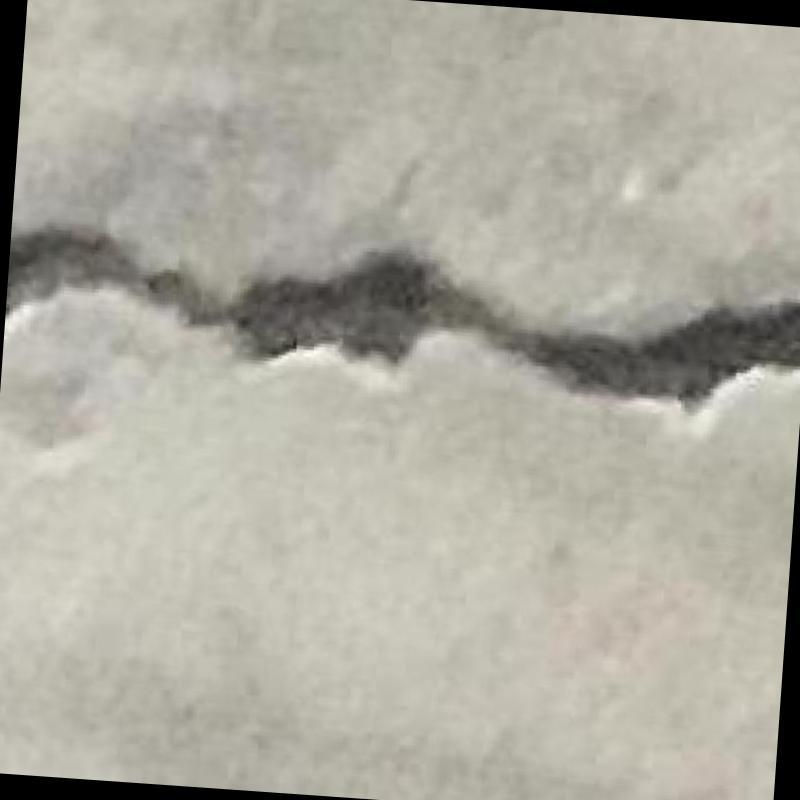pothole: (6, 235, 800, 399)
